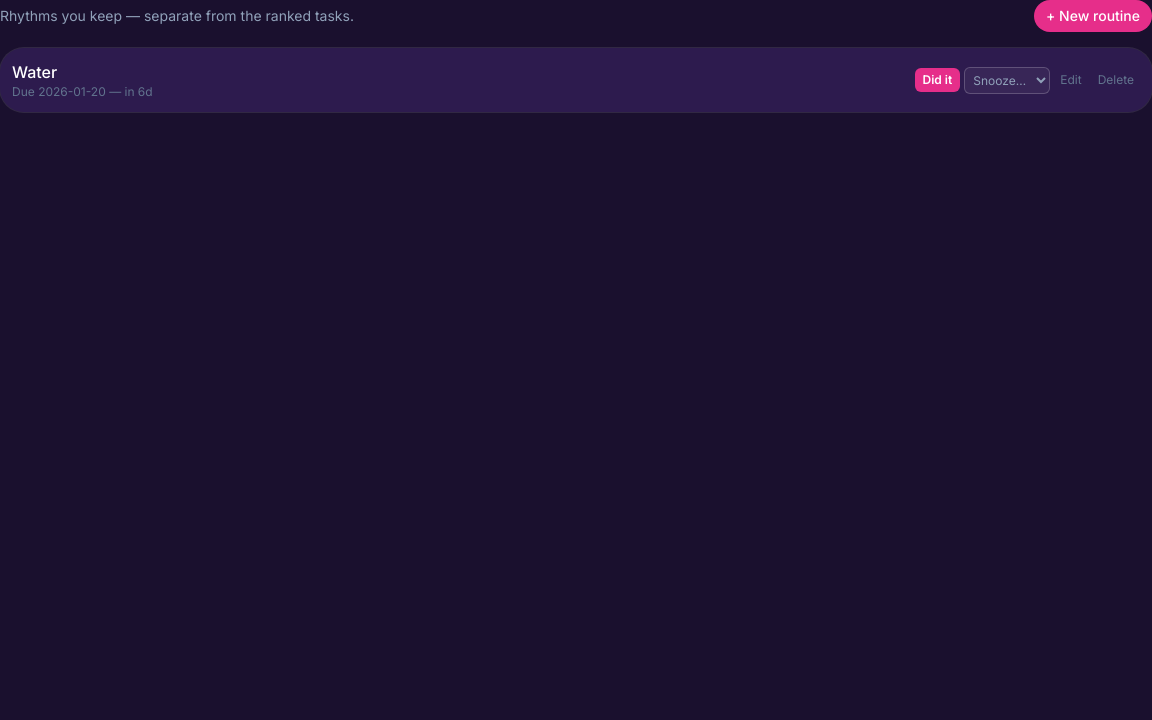
it: RoutinesView — Telegram nag & log-link (ADR 0091 M2) › an odd stored interval (45) round-trips as "45 minutes", not a fractional hour
The width and height of the screenshot is (1152, 720).
Click the button with aria-label "Edit Water" at (1071, 80), box [1054,68,1088,92]
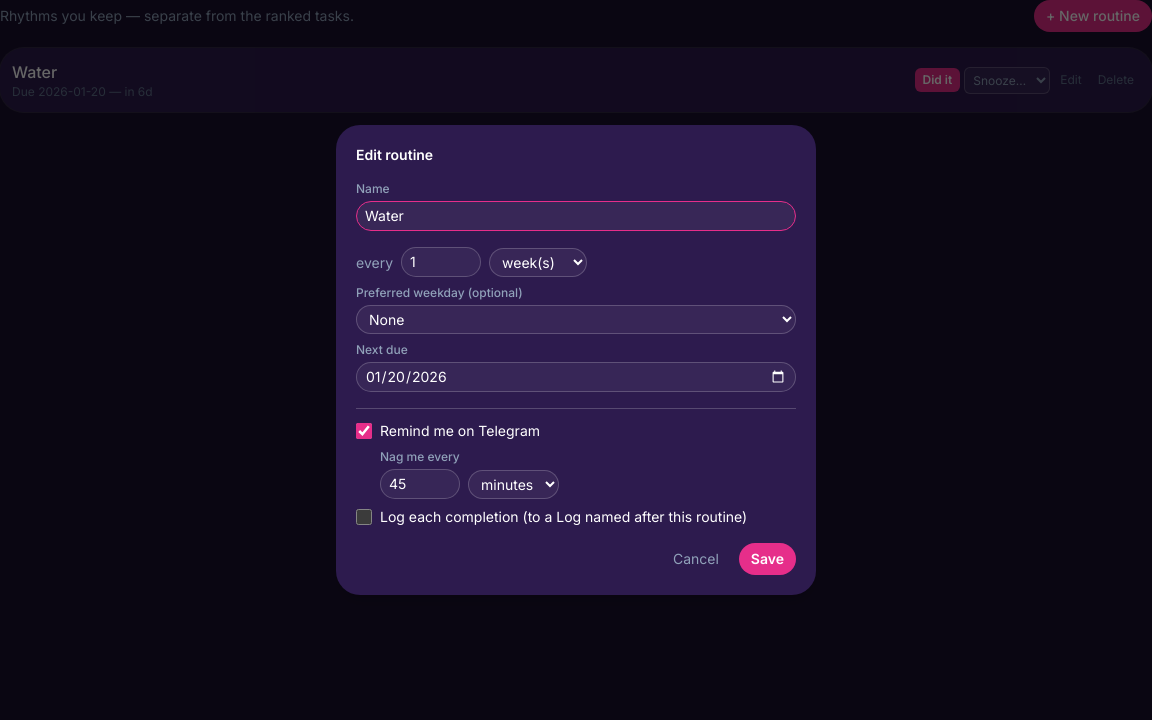
Expected: the number field named "Nag interval" holds "45", [380,469,460,499]
Expected: the dropdown named "Nag interval unit" shows "minutes", [468,470,559,499]
